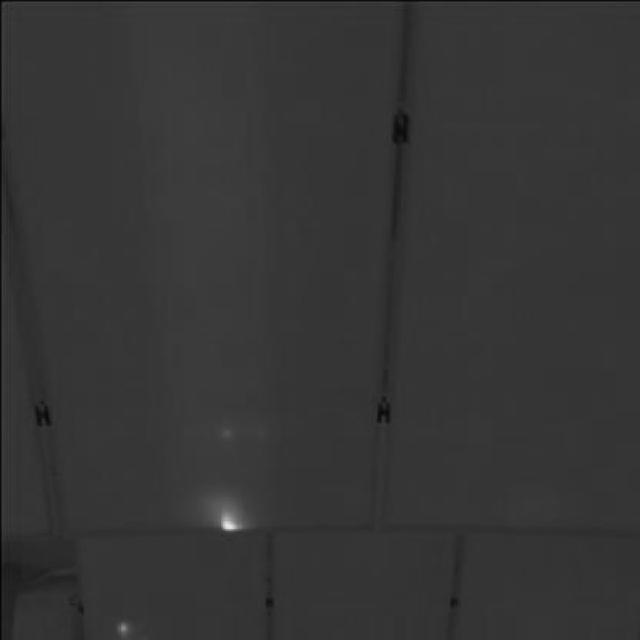hotspot: (209, 507, 243, 538)
